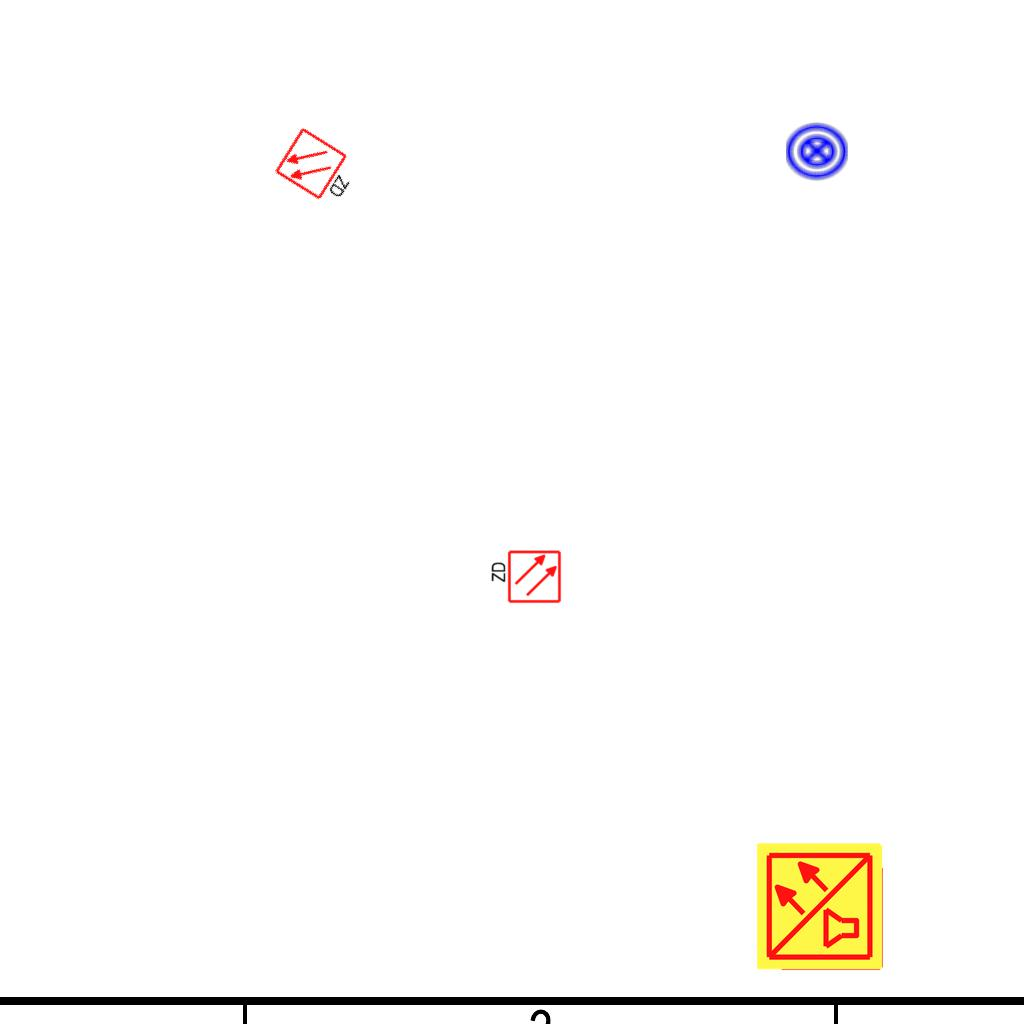OKW_Multisensormelder_(Kombination_optischer_Rauch-Kahlenmonoxid_Waerme-Melder): (754, 840, 886, 972)
Taster_beleuchtet: (784, 118, 850, 184)
ZD_Melder_in_Zwischendecke_mit_Revisionsoeffnung_mind_40_x_40_cm: (273, 124, 366, 212), (488, 549, 562, 606)
